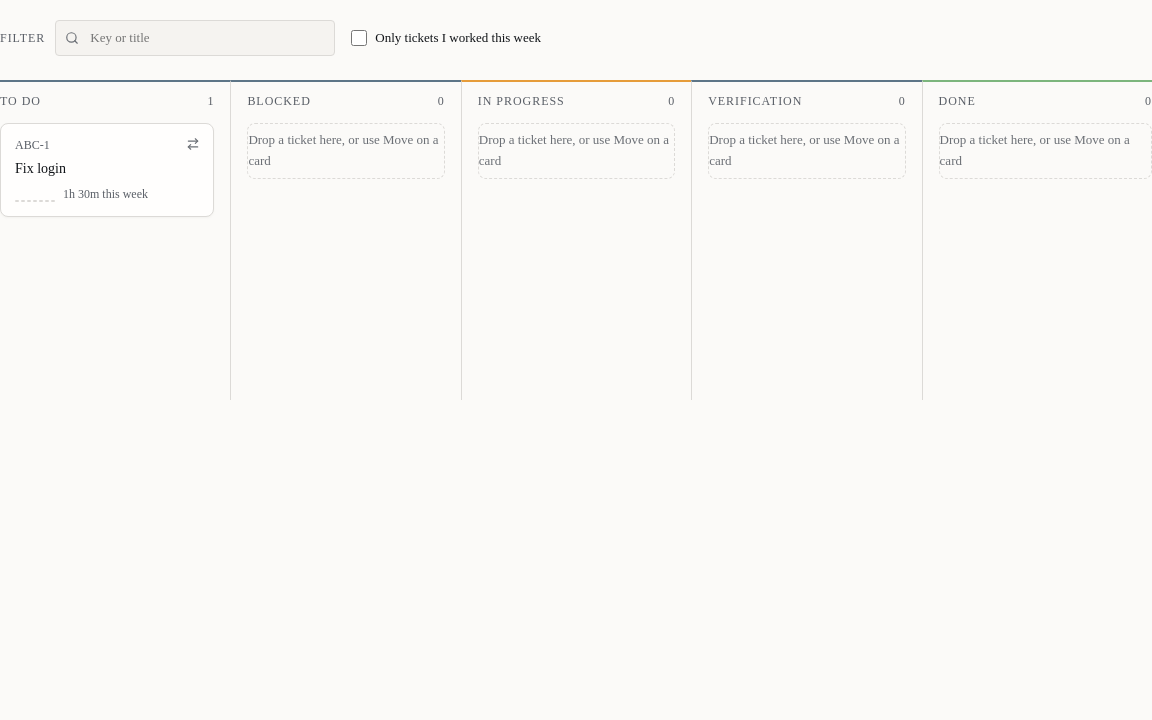
Test: card error and selection › marks the card whose panel is open
This screenshot has width=1152, height=720.
What coordinates should you click on to do the following:
click the button "ABC-1 Fix login 1h 30m this week"
I would click on:
 (107, 170)
Its box is [1,124,213,216].
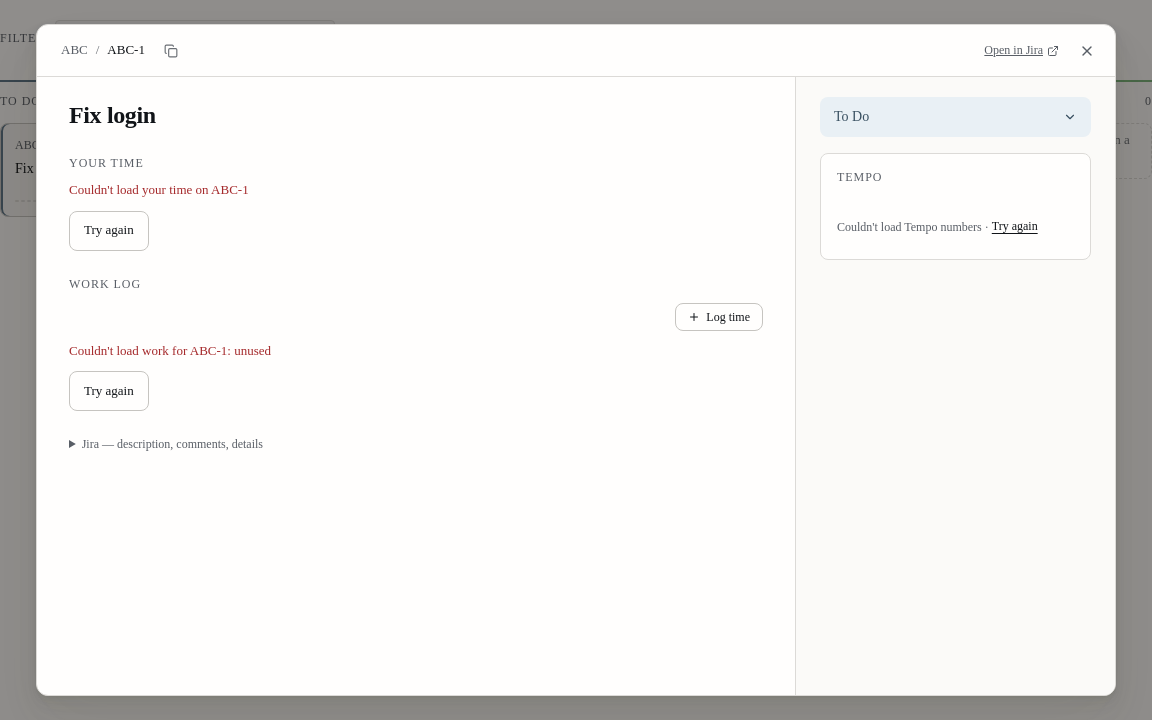
Expected: the dialog is shown
